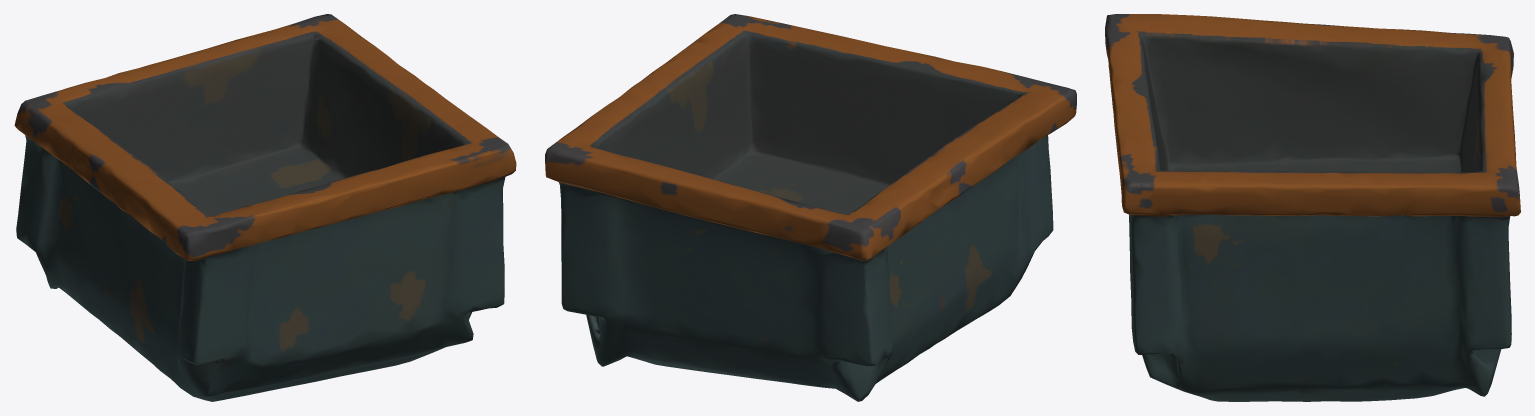
The model's file is scrapper_basin_candidate.glb.
3 renders of one model, left to right at view 1: azimuth 30°, elevation 25°; view 2: azimuth 150°, elevation 25°; view 3: azimuth 270°, elevation 25°, orthographic. The views are drawn at different scales.
Parts seen in each view (by area): view 1: scrapper_basin_candidate; view 2: scrapper_basin_candidate; view 3: scrapper_basin_candidate.
Part boxes in pixels (x1,y1,x2,y2): scrapper_basin_candidate: (14,14,516,401); scrapper_basin_candidate: (545,14,1076,401); scrapper_basin_candidate: (1105,14,1520,401).
Bounding box in the file's own units: 1.05 × 0.7 × 1.05.
1 material, 1 textured.
